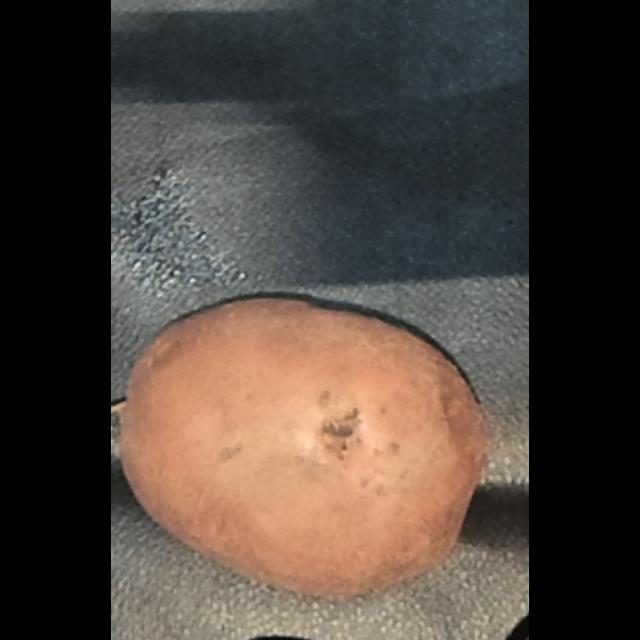Defected potato: (111, 286, 496, 608)
